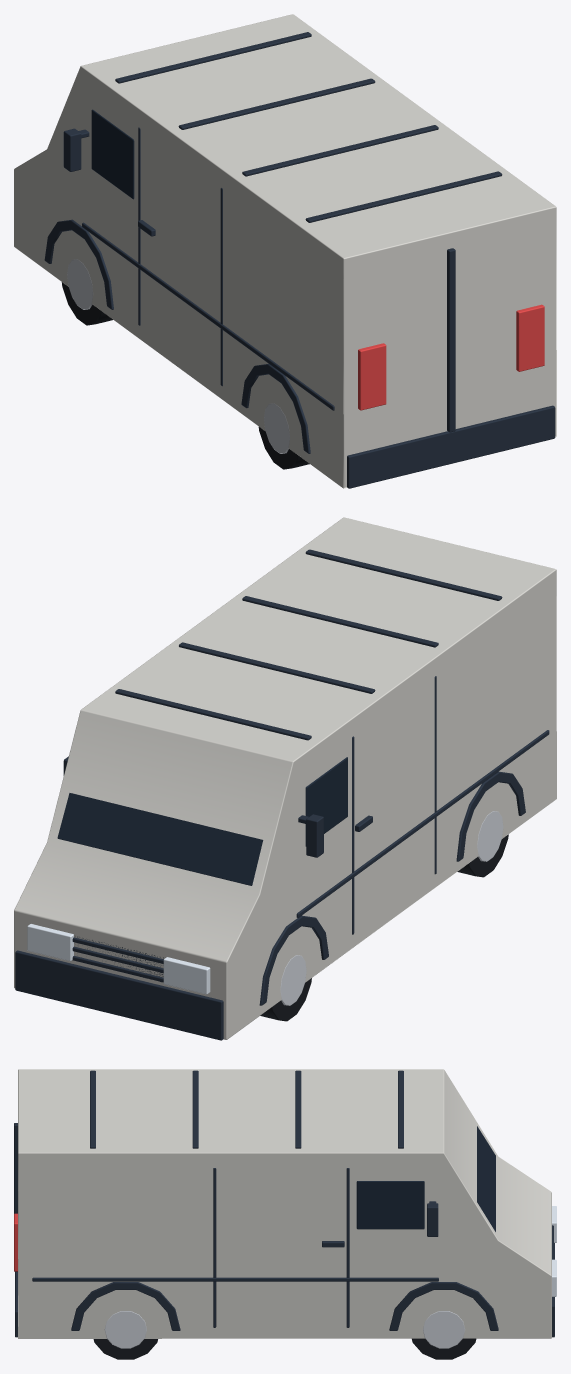
File: veh_van_cargo_01.glb
3 renders of one model, top to bottom at view 1: azimuth 30°, elevation 25°; view 2: azimuth 150°, elevation 25°; view 3: azimuth 270°, elevation 25°, orthographic. The views are drawn at different scales.
Visible parts, largest first — view 1: VEH_VAN_CARGO_01_ROOT; view 2: VEH_VAN_CARGO_01_ROOT; view 3: VEH_VAN_CARGO_01_ROOT.
Part boxes in pixels (<box>): VEH_VAN_CARGO_01_ROOT: <box>14,14,556,488</box>; VEH_VAN_CARGO_01_ROOT: <box>14,517,556,1040</box>; VEH_VAN_CARGO_01_ROOT: <box>14,1069,556,1359</box>.
Size of what is drawn, in the model's own units: 2.31 by 2.26 by 5.29.
